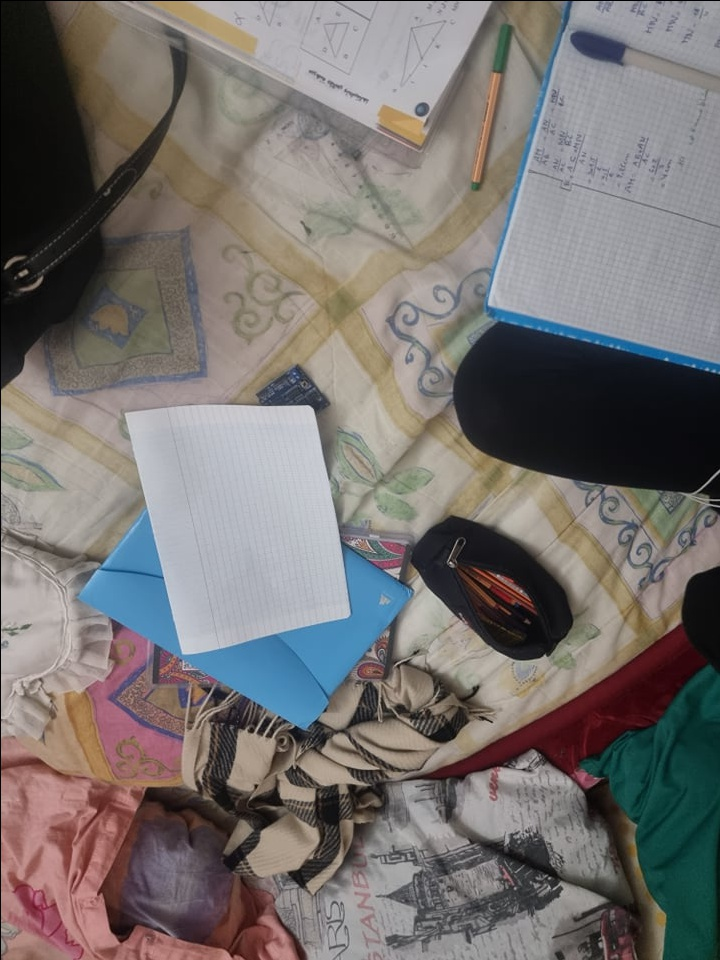5V EXPANSION: (254, 364, 330, 420)
